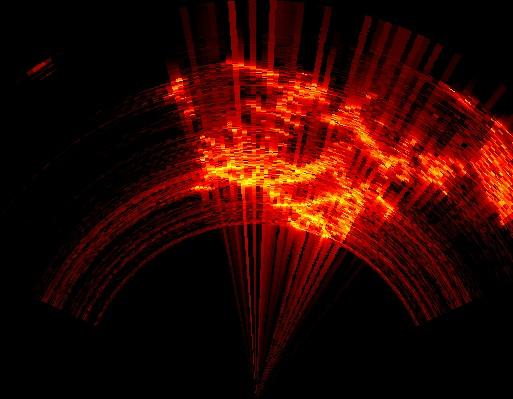shipwreck: (188, 59, 469, 242), (473, 124, 512, 227), (168, 75, 196, 118)
